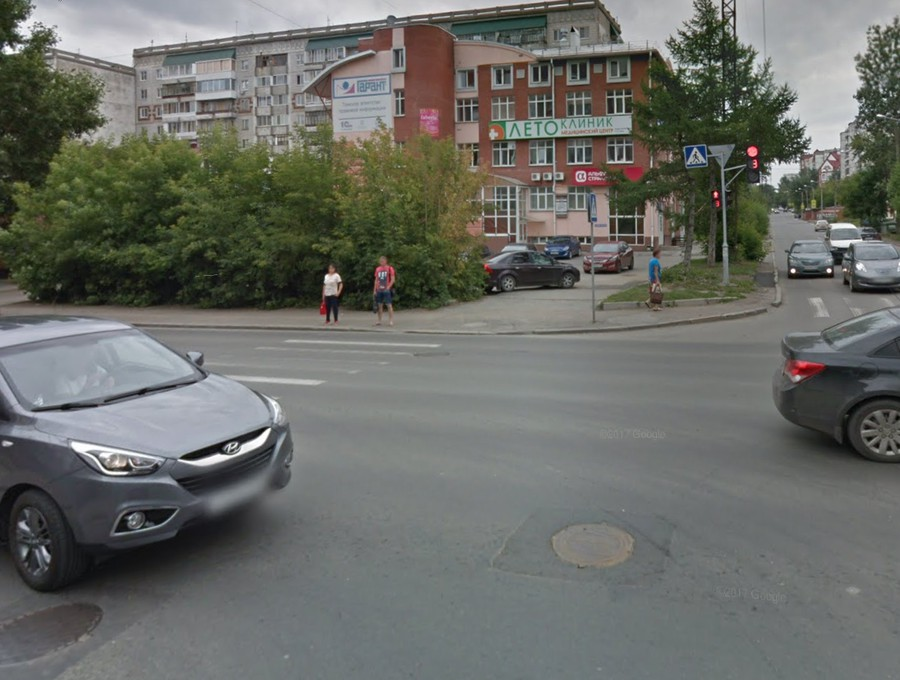Traffic Light-red: (708, 189, 724, 216)
